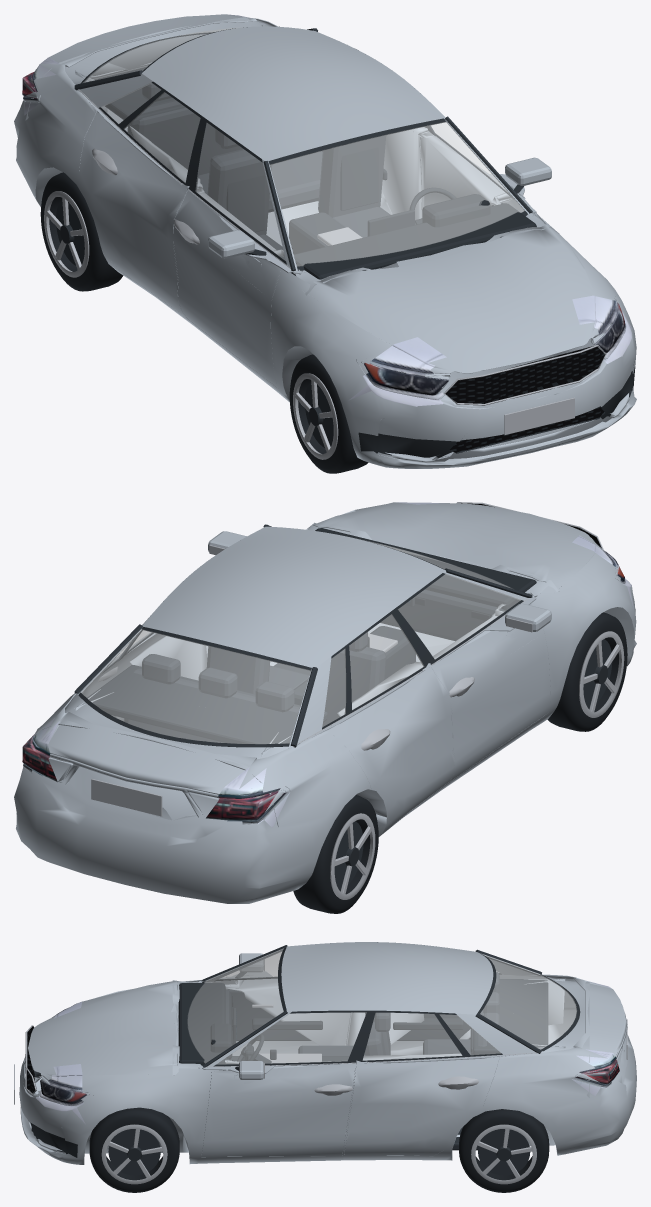
File: BoraS2_Clean.glb
3 views of the same model, one above another, from view 1: azimuth 30°, elevation 25°; view 2: azimuth 150°, elevation 25°; view 3: azimuth 270°, elevation 25° (orthographic). The views are drawn at different scales.
Visible parts, largest first — view 1: Body_paint, Roof_source_fitted_crown, Front_Glass, DoorRR_paint, DoorFR_paint, Dashboard_upper, R_FrontGlass, Front_grille_shallow_panel, R_RearGlass, DoorFL_paint, WheelRR_Tire, Rear_bench_back (+29 smaller); view 2: Body_paint, Roof_source_fitted_crown, Rear_Glass, DoorRR_paint, DoorFR_paint, Rear_parcel_shelf, R_FrontGlass, R_RearGlass, WheelRR_Tire, WheelFR_Tire, Dashboard_upper, Dashboard_lower (+22 smaller); view 3: Body_paint, Roof_source_fitted_crown, DoorFL_paint, DoorRL_paint, Front_Glass, Rear_Glass, L_FrontGlass, L_RearGlass, WheelFL_Tire, WheelRL_Tire, DoorFR_paint, Dashboard_upper (+25 smaller).
Boxes of the visible parts, x1,y1,x2,y2 form: Body_paint: (14, 14, 636, 468); Roof_source_fitted_crown: (142, 26, 445, 161); Front_Glass: (270, 122, 524, 266); DoorRR_paint: (79, 112, 202, 316); DoorFR_paint: (173, 186, 284, 388); Dashboard_upper: (294, 203, 536, 279); R_FrontGlass: (195, 123, 285, 260); Front_grille_shallow_panel: (445, 346, 604, 403); R_RearGlass: (124, 92, 200, 182); DoorFL_paint: (418, 132, 535, 215); WheelRR_Tire: (40, 172, 123, 291); Rear_bench_back: (127, 100, 242, 175); Body_paint: (14, 502, 636, 903); Roof_source_fitted_crown: (142, 526, 445, 667); Rear_Glass: (81, 629, 310, 743); DoorRR_paint: (328, 662, 454, 825); DoorFR_paint: (431, 604, 550, 780); Rear_parcel_shelf: (87, 665, 327, 743); R_FrontGlass: (398, 574, 520, 659); R_RearGlass: (349, 614, 424, 709); WheelRR_Tire: (293, 795, 378, 913); WheelFR_Tire: (547, 612, 627, 731); Dashboard_upper: (315, 528, 536, 610); Dashboard_lower: (380, 589, 505, 640); Body_paint: (19, 974, 636, 1164); Roof_source_fitted_crown: (281, 942, 493, 1014); DoorFL_paint: (201, 1060, 355, 1156); DoorRL_paint: (344, 1053, 499, 1155); Front_Glass: (187, 948, 283, 1063); Rear_Glass: (480, 954, 576, 1049); L_FrontGlass: (217, 1012, 366, 1064); L_RearGlass: (363, 1013, 461, 1060); WheelFL_Tire: (89, 1107, 179, 1192); WheelRL_Tire: (459, 1109, 549, 1192); DoorFR_paint: (211, 975, 350, 1055); Dashboard_upper: (178, 983, 225, 1068).
Bounding box in the file's own units: 2.12 × 1.48 × 4.66.
Materials: 11 (4 with a texture image).
